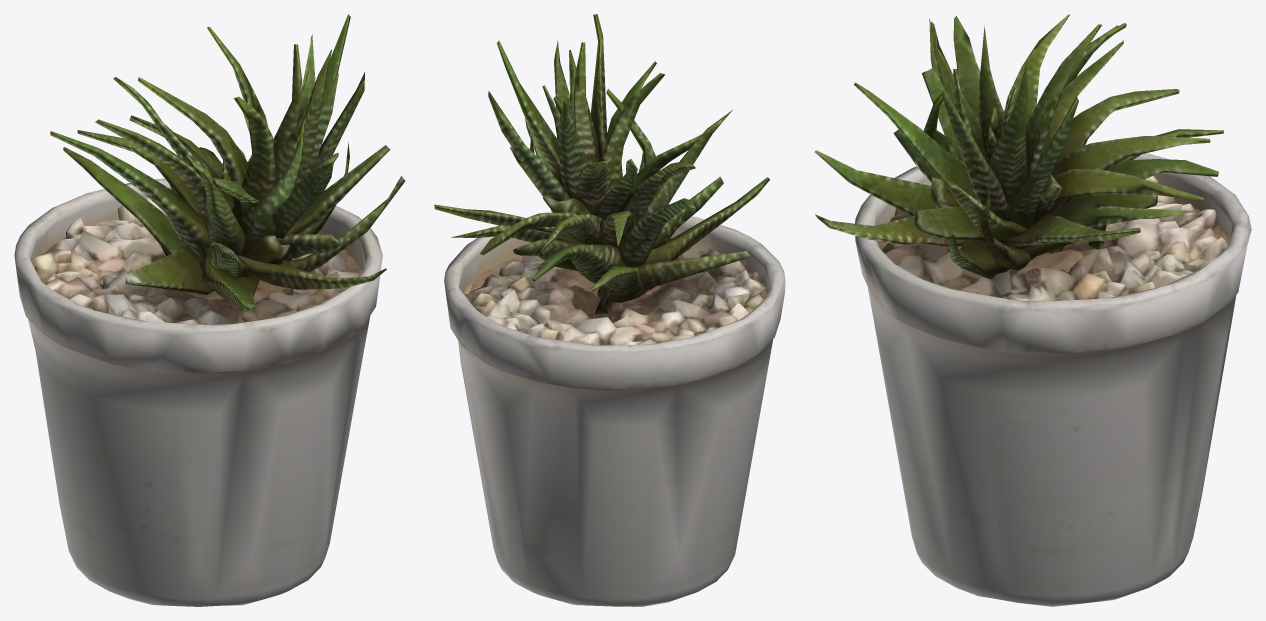
The model's file is potted_plant_04.glb.
3 renders of one model, left to right at view 1: azimuth 30°, elevation 25°; view 2: azimuth 150°, elevation 25°; view 3: azimuth 270°, elevation 25°, orthographic. The views are drawn at different scales.
Visible parts, largest first — view 1: potted_plant_04_ground; view 2: potted_plant_04_ground; view 3: potted_plant_04_ground.
Boxes of the visible parts, x1,y1,x2,y2 form: potted_plant_04_ground: (14,14,405,606); potted_plant_04_ground: (434,14,785,606); potted_plant_04_ground: (814,14,1251,606).
Size of the model in its own units: 0.1672 by 0.2672 by 0.1845.
Materials: 1 (1 with a texture image).
